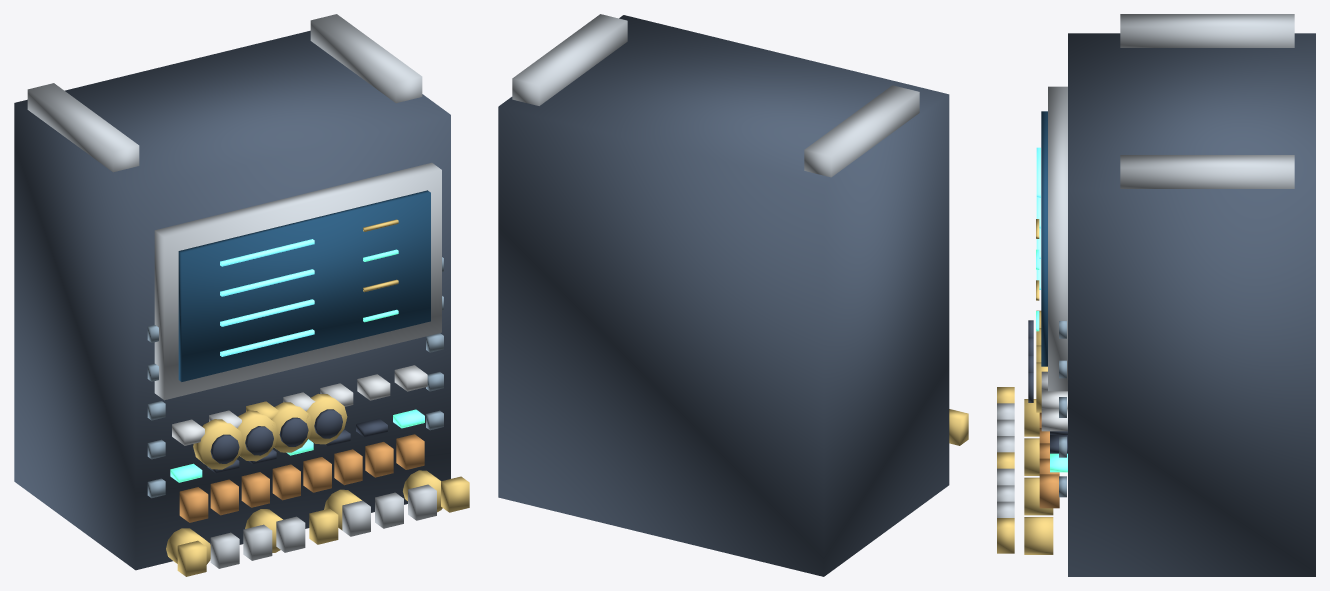
The model's file is 74_L85_ElectricalTerminalDiagnosticRack.glb.
3 renders of one model, left to right at view 1: azimuth 30°, elevation 25°; view 2: azimuth 150°, elevation 25°; view 3: azimuth 270°, elevation 25°, orthographic. The views are drawn at different scales.
Parts seen in each view (by area): view 1: L85_ElectricalTerminalDiagnos_Part_0000, L85_ElectricalTerminalDiagnos_Part_0001, L85_ElectricalTerminalDiagnos_Part_0002, L85_ElectricalTerminalDiagnos_Part_0009, L85_ElectricalTerminalDiagnos_Part_0004, L85_ElectricalTerminalDiagnos_Part_0006, L85_ElectricalTerminalDiagnos_Part_0003, L85_ElectricalTerminalDiagnos_Part_0008, L85_ElectricalTerminalDiagnos_Part_0005, L85_ElectricalTerminalDiagnos_Part_0010, L85_ElectricalTerminalDiagnos_Part_0007, L85_ElectricalTerminalDiagnos_Part_0012 (+6 smaller); view 2: L85_ElectricalTerminalDiagnos_Part_0000, L85_ElectricalTerminalDiagnos_Part_0001, L85_ElectricalTerminalDiagnos_Part_0004; view 3: L85_ElectricalTerminalDiagnos_Part_0000, L85_ElectricalTerminalDiagnos_Part_0001, L85_ElectricalTerminalDiagnos_Part_0004, L85_ElectricalTerminalDiagnos_Part_0002, L85_ElectricalTerminalDiagnos_Part_0009, L85_ElectricalTerminalDiagnos_Part_0006, L85_ElectricalTerminalDiagnos_Part_0008, L85_ElectricalTerminalDiagnos_Part_0003, L85_ElectricalTerminalDiagnos_Part_0005.
Part boxes in pixels (<box>): L85_ElectricalTerminalDiagnos_Part_0000: <box>14,30,450,570</box>; L85_ElectricalTerminalDiagnos_Part_0001: <box>27,14,441,568</box>; L85_ElectricalTerminalDiagnos_Part_0002: <box>178,190,430,381</box>; L85_ElectricalTerminalDiagnos_Part_0009: <box>179,434,424,522</box>; L85_ElectricalTerminalDiagnos_Part_0004: <box>166,219,469,576</box>; L85_ElectricalTerminalDiagnos_Part_0006: <box>172,365,427,445</box>; L85_ElectricalTerminalDiagnos_Part_0003: <box>220,239,314,356</box>; L85_ElectricalTerminalDiagnos_Part_0008: <box>147,257,443,498</box>; L85_ElectricalTerminalDiagnos_Part_0005: <box>170,249,424,482</box>; L85_ElectricalTerminalDiagnos_Part_0010: <box>193,419,243,469</box>; L85_ElectricalTerminalDiagnos_Part_0007: <box>207,418,387,473</box>; L85_ElectricalTerminalDiagnos_Part_0012: <box>237,410,278,461</box>; L85_ElectricalTerminalDiagnos_Part_0000: <box>498,15,949,576</box>; L85_ElectricalTerminalDiagnos_Part_0001: <box>512,14,919,177</box>; L85_ElectricalTerminalDiagnos_Part_0004: <box>949,409,968,445</box>; L85_ElectricalTerminalDiagnos_Part_0000: <box>1068,33,1315,576</box>; L85_ElectricalTerminalDiagnos_Part_0001: <box>997,14,1294,517</box>; L85_ElectricalTerminalDiagnos_Part_0004: <box>997,219,1053,554</box>; L85_ElectricalTerminalDiagnos_Part_0002: <box>1041,111,1047,366</box>; L85_ElectricalTerminalDiagnos_Part_0009: <box>1039,412,1059,508</box>; L85_ElectricalTerminalDiagnos_Part_0006: <box>1041,371,1067,431</box>; L85_ElectricalTerminalDiagnos_Part_0008: <box>1059,321,1066,497</box>; L85_ElectricalTerminalDiagnos_Part_0003: <box>1036,147,1040,289</box>; L85_ElectricalTerminalDiagnos_Part_0005: <box>1036,249,1067,472</box>.
Bounding box in the file's own units: 0.9588 × 1.16 × 0.8221.
